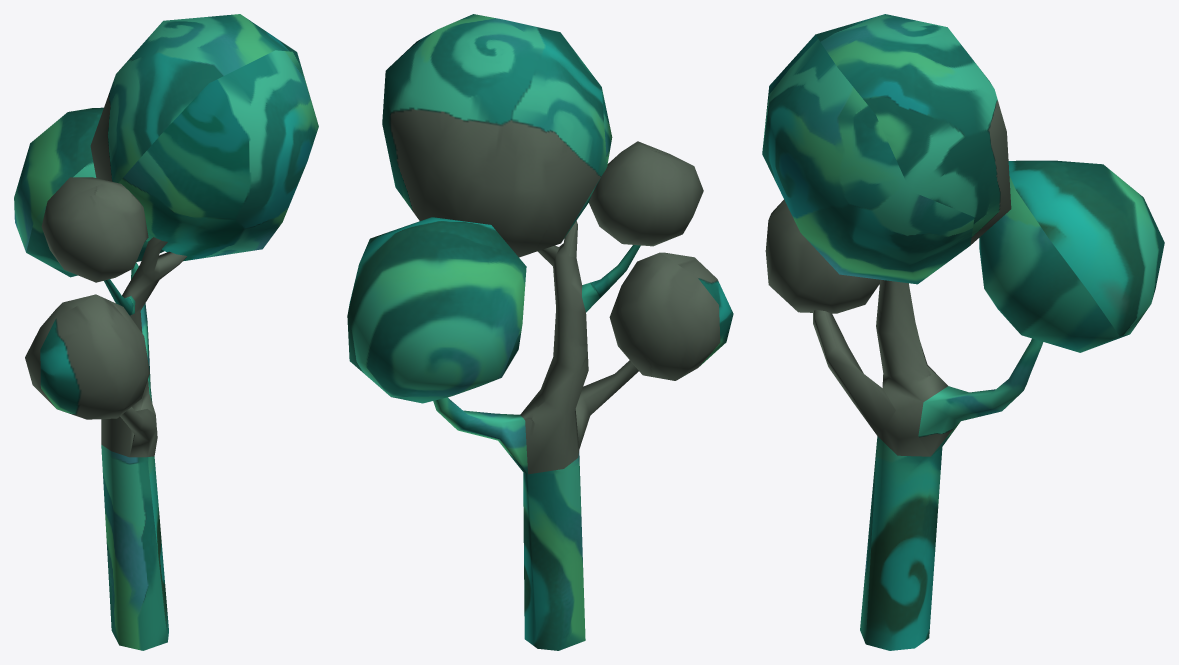
File: tree_B.fbx
3 views of the same model, side by side, from view 1: azimuth 30°, elevation 25°; view 2: azimuth 150°, elevation 25°; view 3: azimuth 270°, elevation 25° (orthographic). The views are drawn at different scales.
Visible parts, largest first — view 1: treeB; view 2: treeB; view 3: treeB.
Boxes of the visible parts, x1=… form: treeB: x1=14, y1=14, x2=318, y2=650; treeB: x1=347, y1=14, x2=733, y2=650; treeB: x1=762, y1=14, x2=1164, y2=650.
Bounding box in the file's own units: 146 × 283 × 161.
